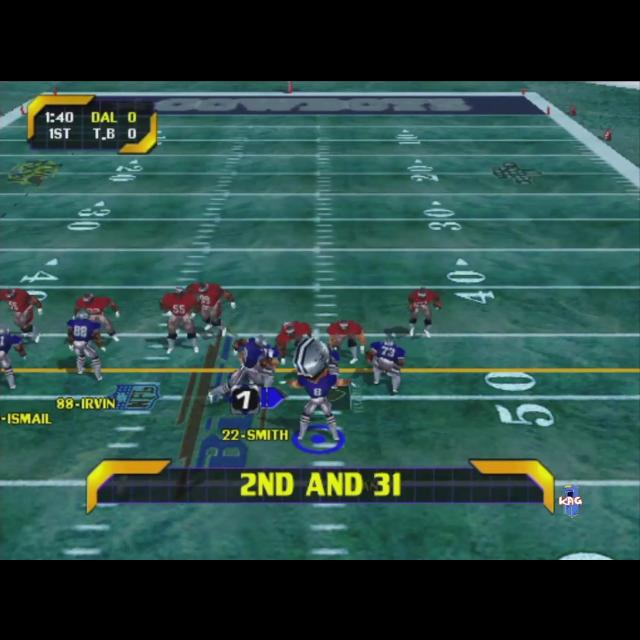player: (292, 338, 351, 442), (209, 336, 279, 402), (64, 307, 106, 378), (160, 285, 202, 353), (186, 280, 236, 332), (1, 286, 44, 342), (366, 334, 406, 392), (74, 291, 120, 341), (0, 323, 28, 389), (325, 318, 365, 364), (407, 286, 443, 336), (274, 320, 312, 364)
